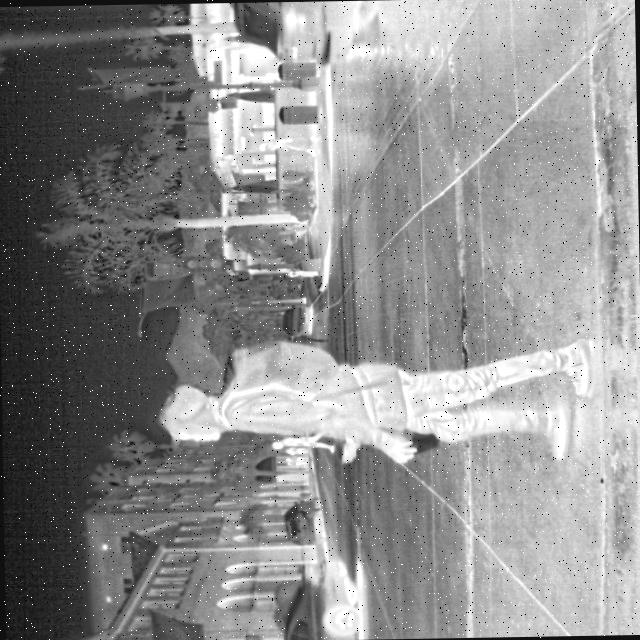Pedestrian: (158, 333, 598, 472), (270, 430, 336, 454), (258, 134, 319, 156)
Vehicle: (221, 0, 380, 69), (272, 557, 363, 640), (278, 498, 322, 546), (280, 302, 316, 339)
